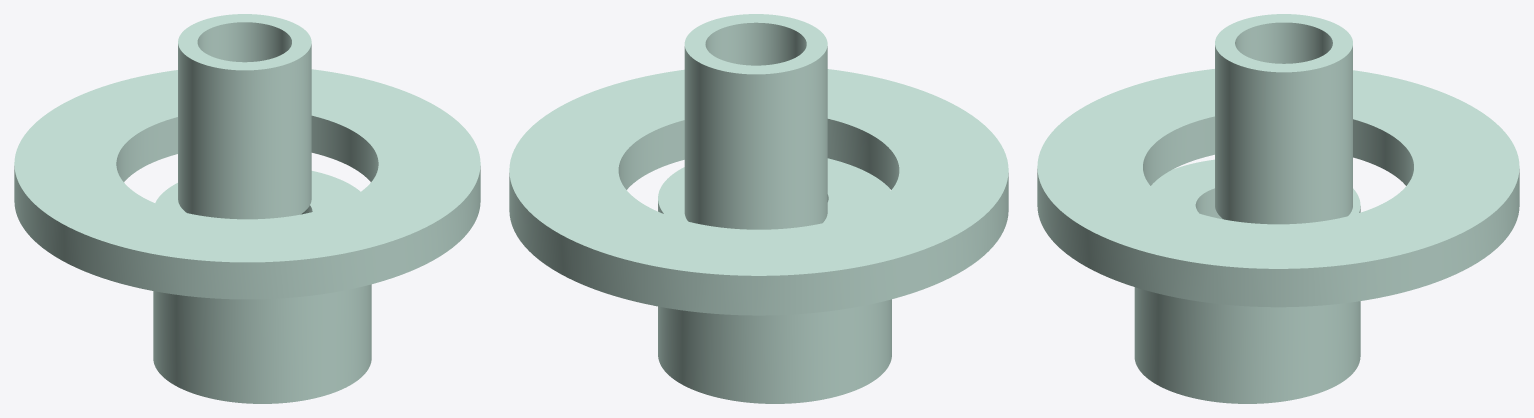
3 views of the same model, side by side, from view 1: azimuth 30°, elevation 25°; view 2: azimuth 150°, elevation 25°; view 3: azimuth 270°, elevation 25° (orthographic). The views are drawn at different scales.
Parts seen in each view (by area): view 1: Renderer Node; view 2: Renderer Node; view 3: Renderer Node.
Part boxes in pixels (x1,y1,x2,y2): Renderer Node: (14,14,480,403); Renderer Node: (509,14,1008,403); Renderer Node: (1037,14,1519,403).
Bounding box in the file's own units: 1.52 × 1.09 × 1.52.
